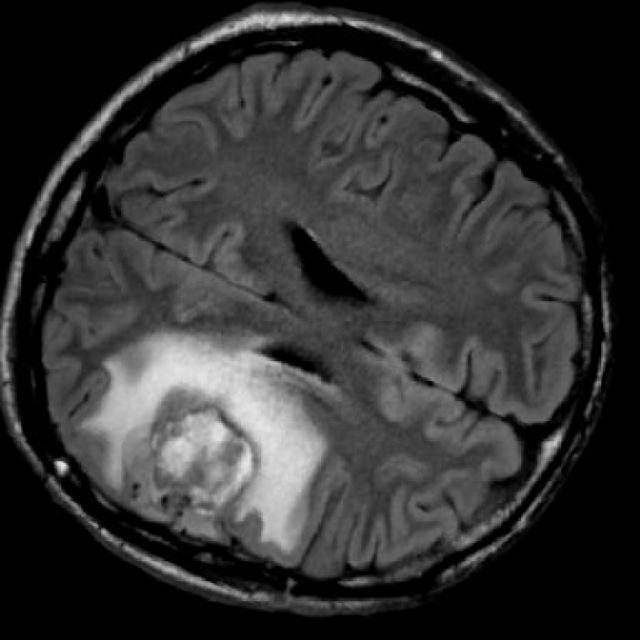Brain-Tumor: (126, 351, 292, 525)
